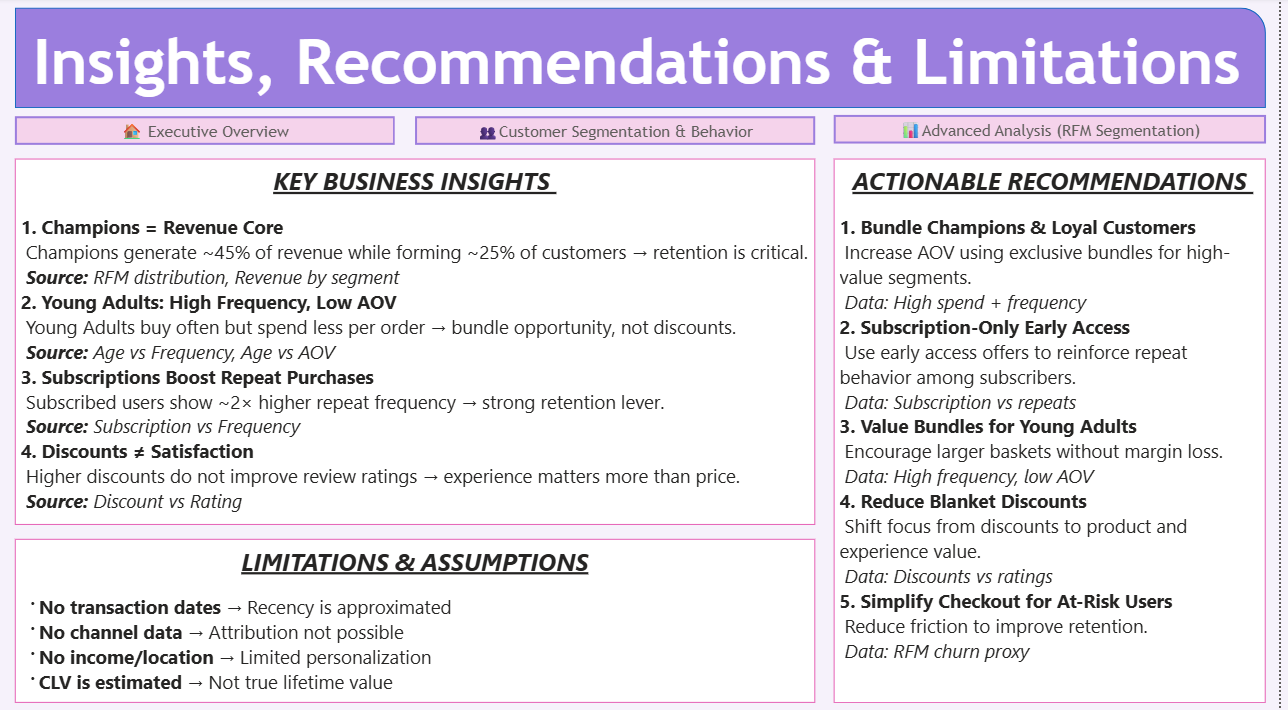

The dashboard page shown, as its layout file describes it:
{"tool":"powerbi","page":{"name":"Insights, Recommendations & Limitations","canvas":[1280,720],"ordinal":6},"visuals":[{"type":"shape","box":[15.7,10.4,1250.5,100.5],"z":0},{"type":"textbox","box":[15.9,161.6,723.2,544.4],"z":1000},{"type":"textbox","box":[751,161.6,515.2,394.7],"z":2000},{"type":"textbox","box":[751,566.9,515.2,139.1],"z":3000},{"type":"actionButton","box":[415.7,118.6,400,28.6],"z":4000},{"type":"actionButton","box":[16.4,118.6,380,28.6],"z":5000},{"type":"actionButton","box":[834.3,117.9,432.1,28.6],"z":6000}]}

Visuals, with their boxes in screenshot pixels (x1, y1, x2, y2), scaled from the page's 1280x720 canvas onto the 1288x710 screenshot:
shape: box=[16, 10, 1274, 109]
textbox: box=[16, 159, 744, 696]
textbox: box=[756, 159, 1274, 549]
textbox: box=[756, 559, 1274, 696]
actionButton: box=[418, 117, 821, 145]
actionButton: box=[17, 117, 399, 145]
actionButton: box=[840, 116, 1274, 144]
